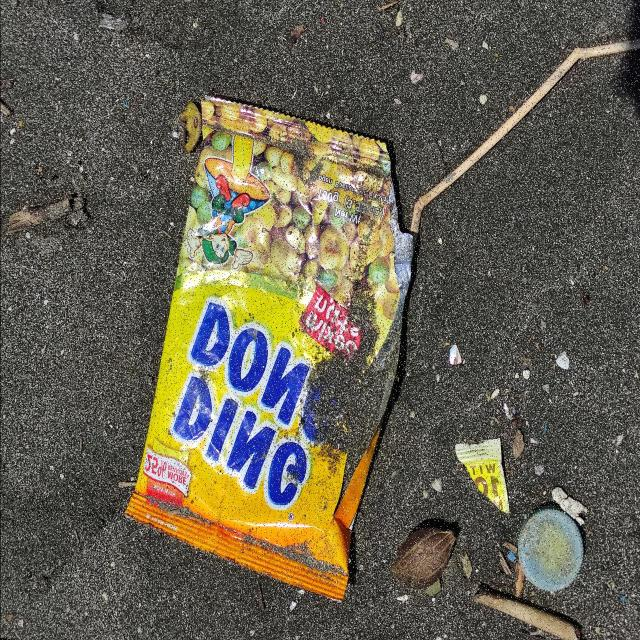plastic_waste: (123, 94, 415, 604), (517, 505, 585, 593), (454, 439, 511, 517)
